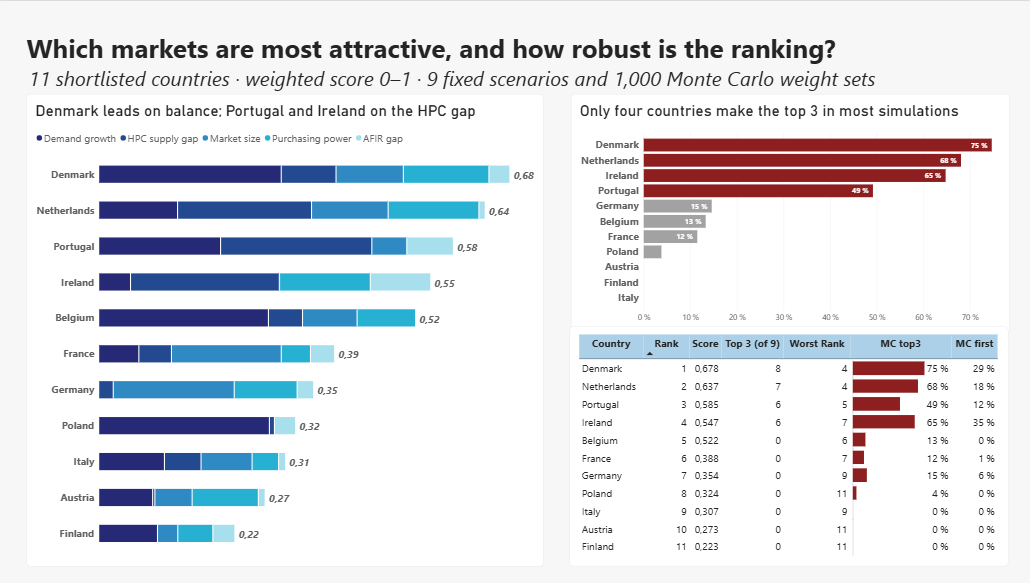

The dashboard page shown, as its layout file describes it:
{"tool":"powerbi","page":{"name":"Ranking","canvas":[1920,1080],"ordinal":1},"visuals":[{"type":"barChart","title":"Denmark leads on balance; Portugal and Ireland on the HPC gap","fields":{"Category":["dim_country.country"],"Series":["tbl_weights.criterion_label"],"Y":["Sum(score_breakdown.contribution)"]},"box":[52.5,172.5,957.5,875],"z":0},{"type":"textbox","box":[53.5,53.5,1800,139.5],"z":1000},{"type":"barChart","title":"Only four countries make the top 3 in most simulations","fields":{"Category":["dim_country.country"],"Series":["dim_country.group"],"Y":["Sum(tbl_scores.mc_top3)"]},"box":[1060,172.5,812.5,445],"z":2000},{"type":"tableEx","fields":{"Values":["tbl_scores.country","tbl_scores.rank","tbl_scores.score","tbl_scores.times_top3","tbl_scores.worst_rank","tbl_scores.mc_top3","tbl_scores.mc_first"]},"box":[1057.5,603.3,812.5,444.2],"z":3000}]}

Visuals, with their boxes in screenshot pixels (x1, y1, x2, y2), scaled from the page's 1920x1080 canvas onto the 1030x583 screenshot:
"Denmark leads on balance; Portugal and Ireland on the HPC gap" barChart: detection(28, 93, 542, 565)
textbox: detection(29, 29, 994, 104)
"Only four countries make the top 3 in most simulations" barChart: detection(569, 93, 1005, 333)
tableEx - tbl_scores.country x tbl_scores.rank: detection(567, 326, 1003, 565)
